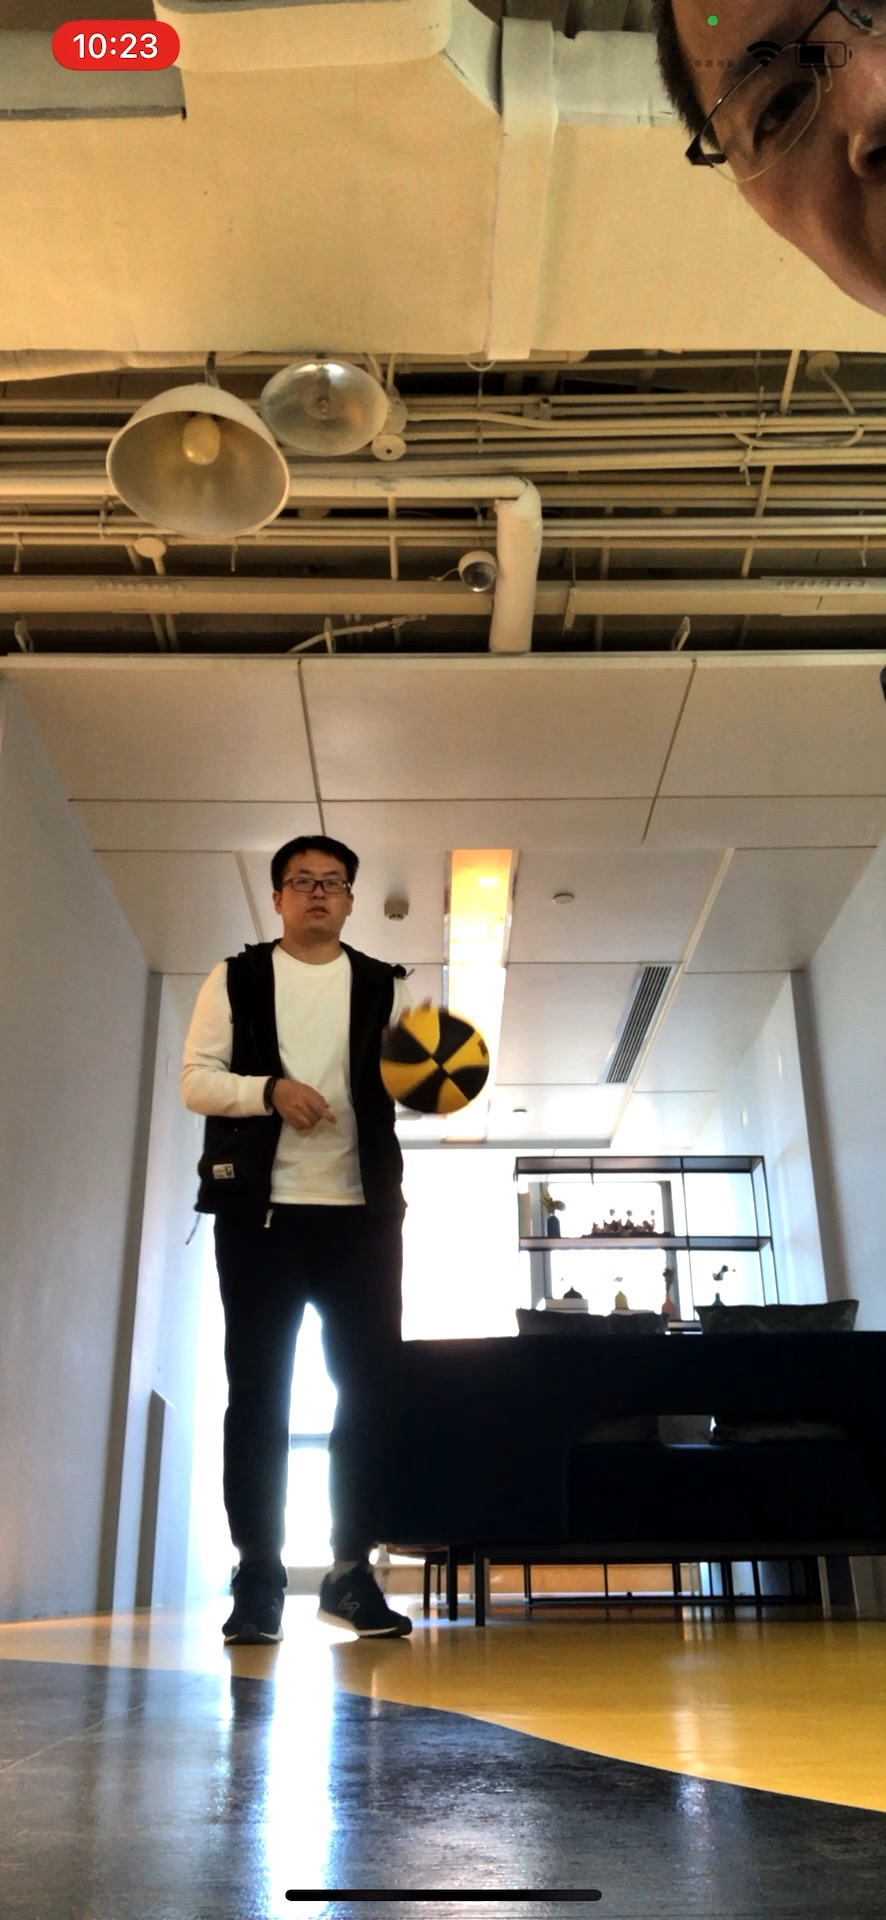ball: (378, 1008, 490, 1116)
